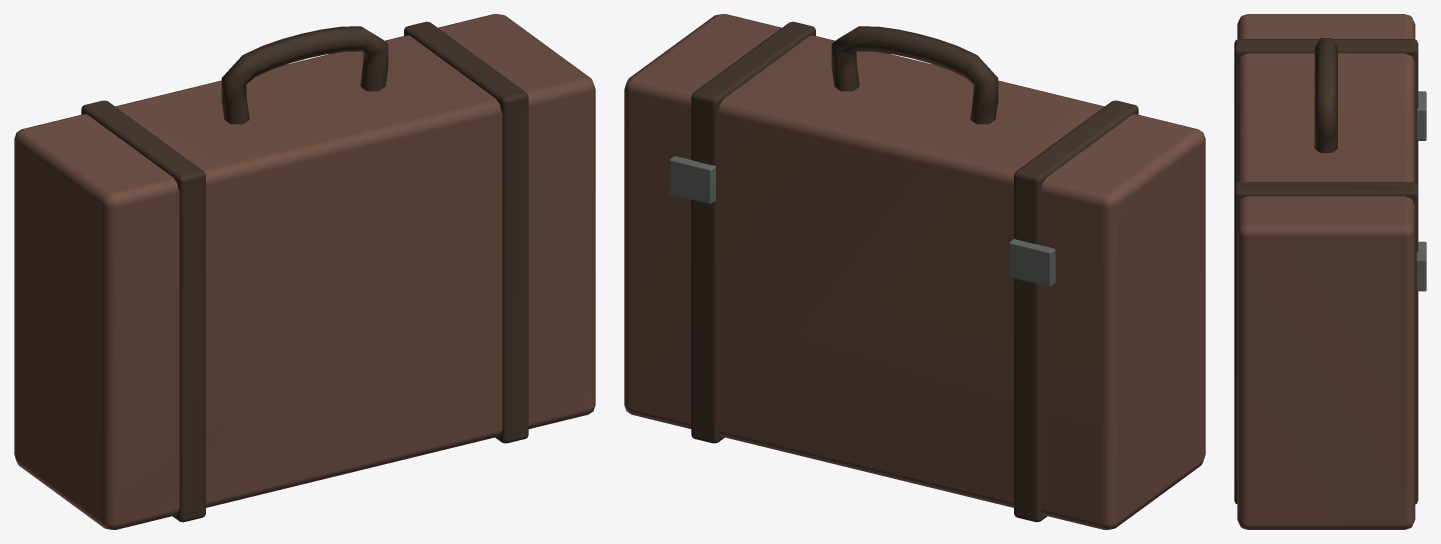
Rendered from prop-suitcase-v01.glb.
3 views of the same model, side by side, from view 1: azimuth 30°, elevation 25°; view 2: azimuth 150°, elevation 25°; view 3: azimuth 270°, elevation 25° (orthographic). The views are drawn at different scales.
Parts seen in each view (by area): view 1: suitcase; view 2: suitcase; view 3: suitcase.
Boxes of the visible parts, x1,y1,x2,y2 form: suitcase: [14, 14, 595, 529]; suitcase: [624, 14, 1205, 529]; suitcase: [1234, 14, 1426, 529].
Size of the model in its own units: 0.58 by 0.4606 by 0.2165.
